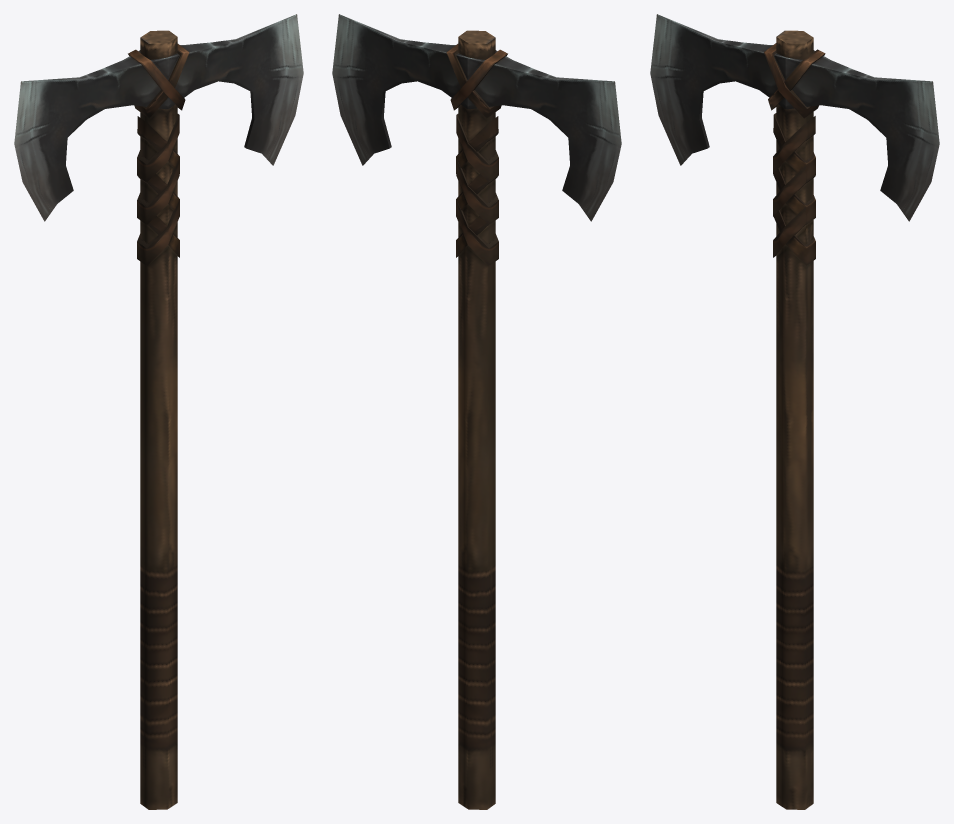
Rendered from 100_weapon.FBX.
The picture shows the model from 3 angles, left to right: view 1: azimuth 30°, elevation 25°; view 2: azimuth 150°, elevation 25°; view 3: azimuth 330°, elevation 25°; orthographic projection.
Parts seen in each view (by area): view 1: 100_weapon; view 2: 100_weapon; view 3: 100_weapon.
Part boxes in pixels (x1,y1,x2,y2): 100_weapon: (14, 14, 303, 809); 100_weapon: (332, 14, 621, 809); 100_weapon: (650, 14, 939, 809).
Bounding box in the file's own units: 1081 × 2733 × 151.
